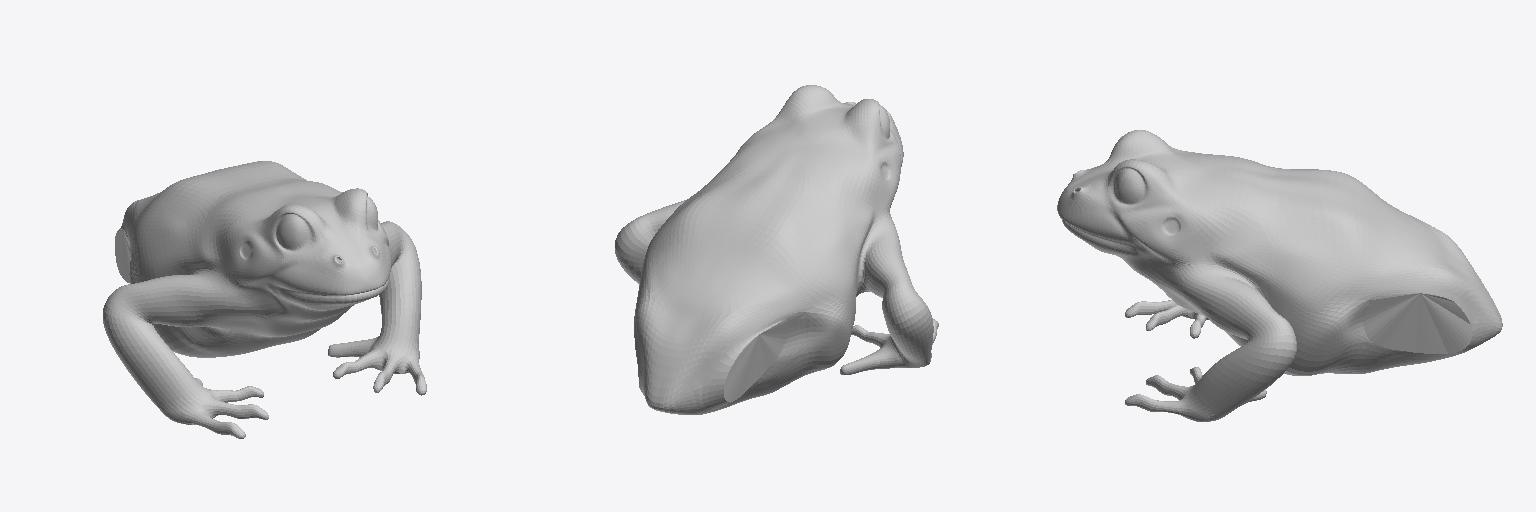
Rendered from frog-body.obj.
The picture shows the model from 3 angles: view 1: azimuth 30°, elevation 25°; view 2: azimuth 150°, elevation 25°; view 3: azimuth 270°, elevation 25°; orthographic projection.
Parts seen in each view (by area): view 1: frog; view 2: frog; view 3: frog.
Boxes of the visible parts, x1=… form: frog: x1=103, y1=161, x2=426, y2=438; frog: x1=615, y1=85, x2=938, y2=414; frog: x1=1057, y1=130, x2=1502, y2=421.
Size of the model in its own units: 4.94 by 3.36 by 6.2.